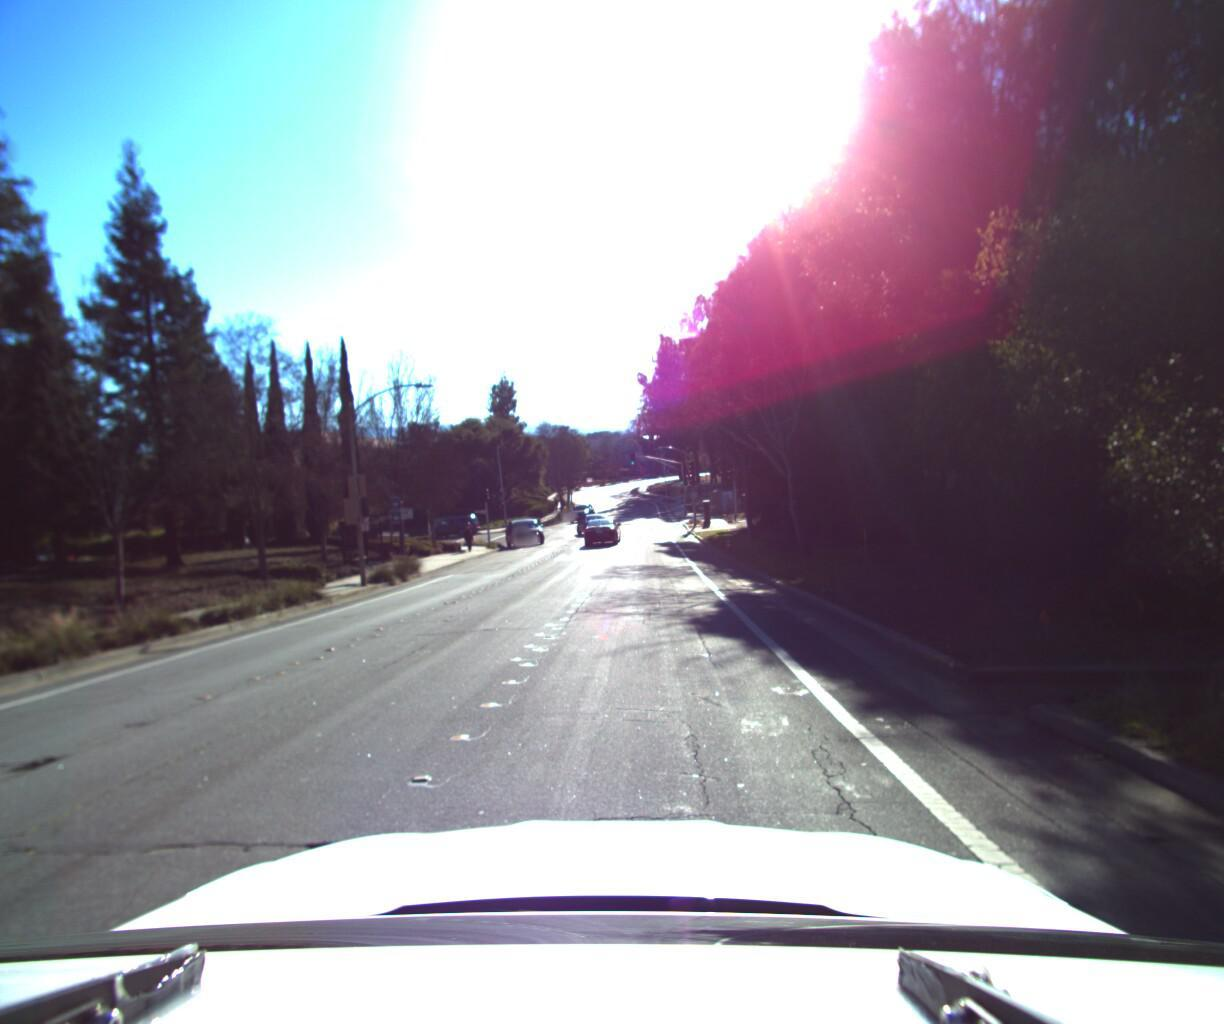car: (578, 507, 624, 546), (505, 513, 543, 548), (420, 514, 478, 536)
